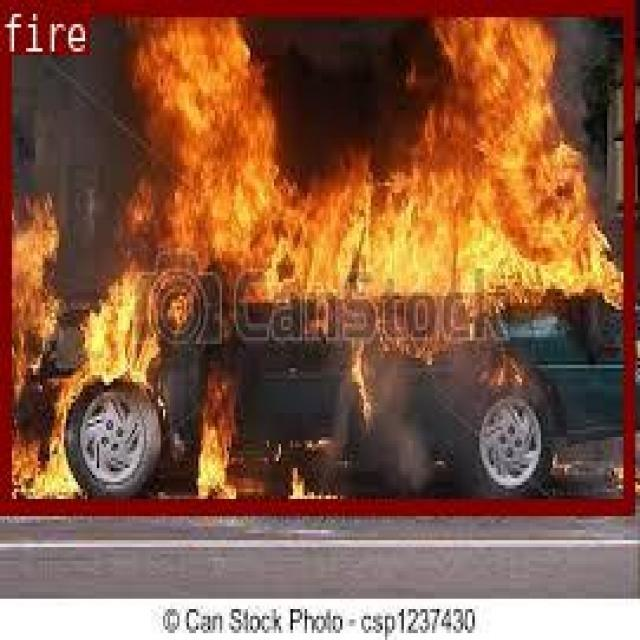fire: (0, 0, 633, 513)
